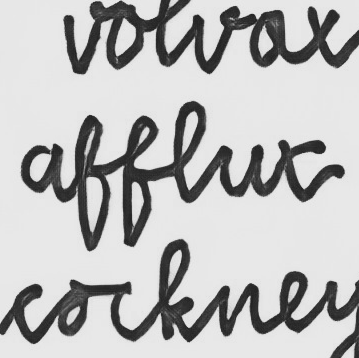a: (18, 142, 64, 198)
f: (119, 112, 162, 249), (71, 113, 112, 253)
l: (170, 99, 210, 204)
u: (216, 140, 266, 199)
x: (270, 138, 328, 203)
